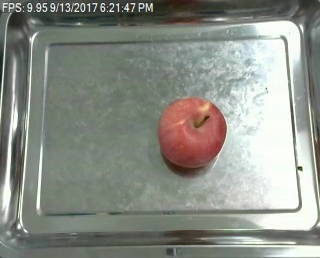Apple: (155, 92, 228, 171)
